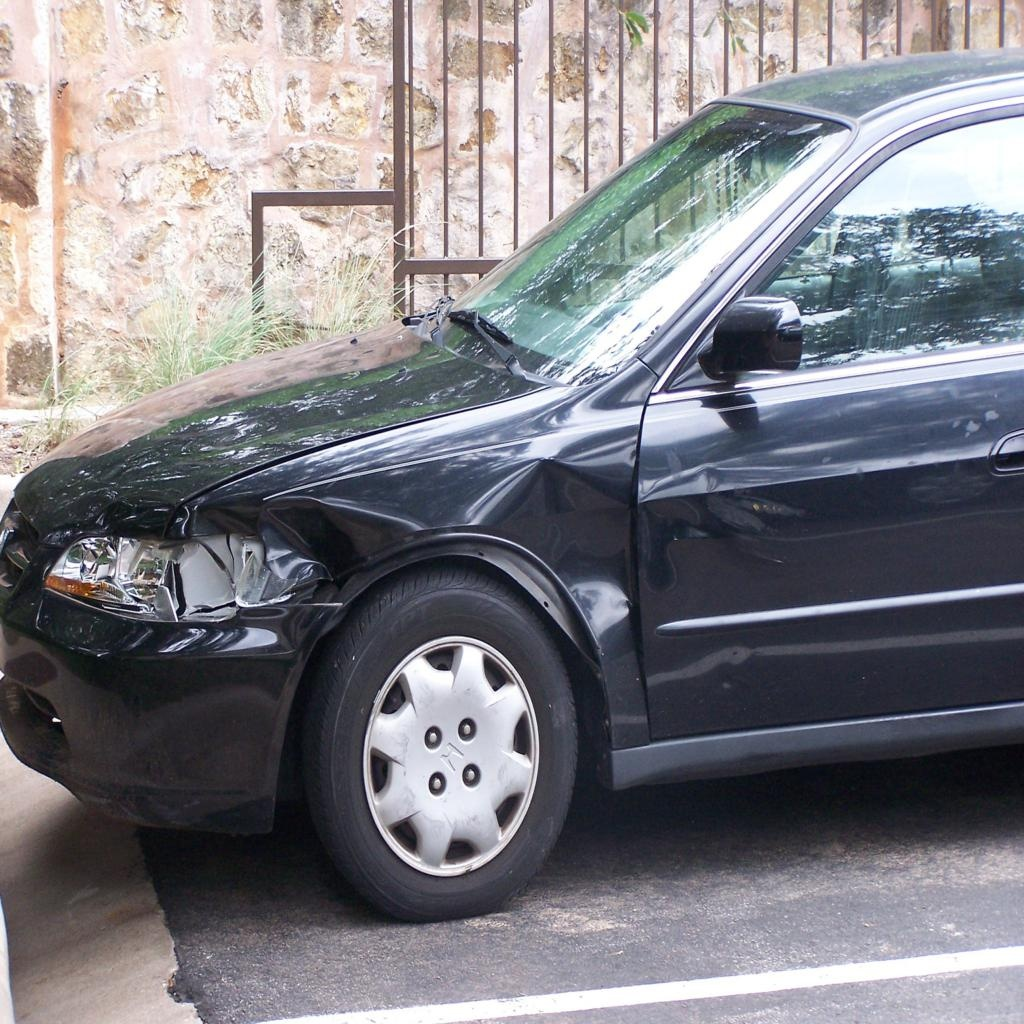Broken-glass: (50, 530, 303, 635)
Smashed: (499, 448, 652, 642)
